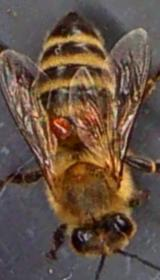varroa_mite: (50, 112, 71, 136)
